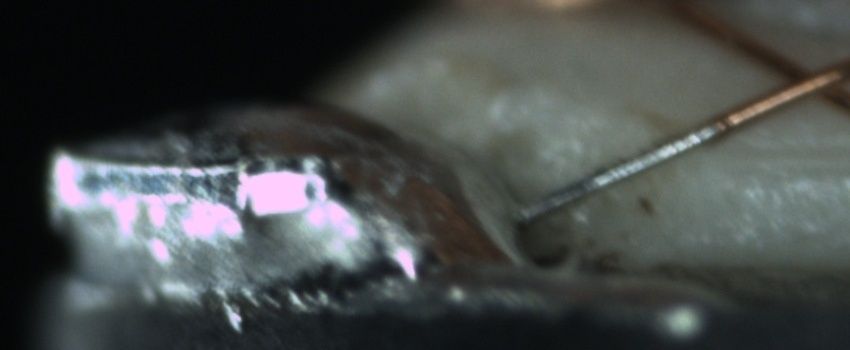CL: (756, 45, 848, 111)
DL: (684, 124, 849, 188)
TS: (517, 118, 731, 224)
